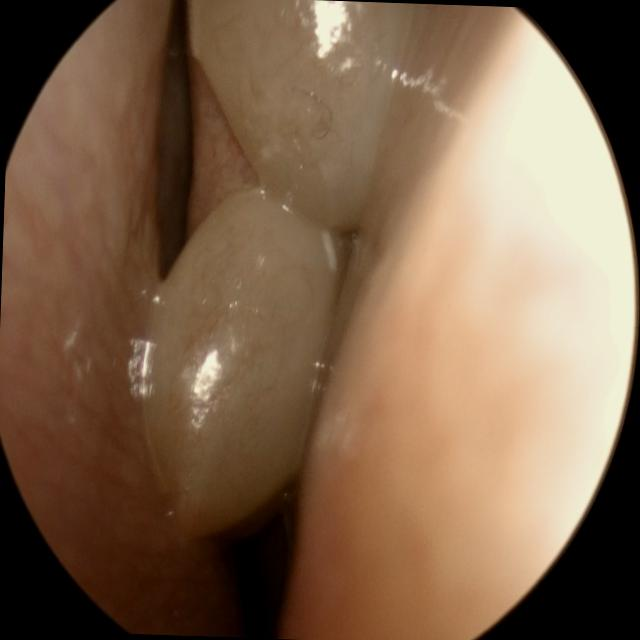OPENING: (208, 481, 309, 637), (150, 3, 201, 276)
POLYPS: (228, 169, 406, 505), (206, 0, 392, 222)
